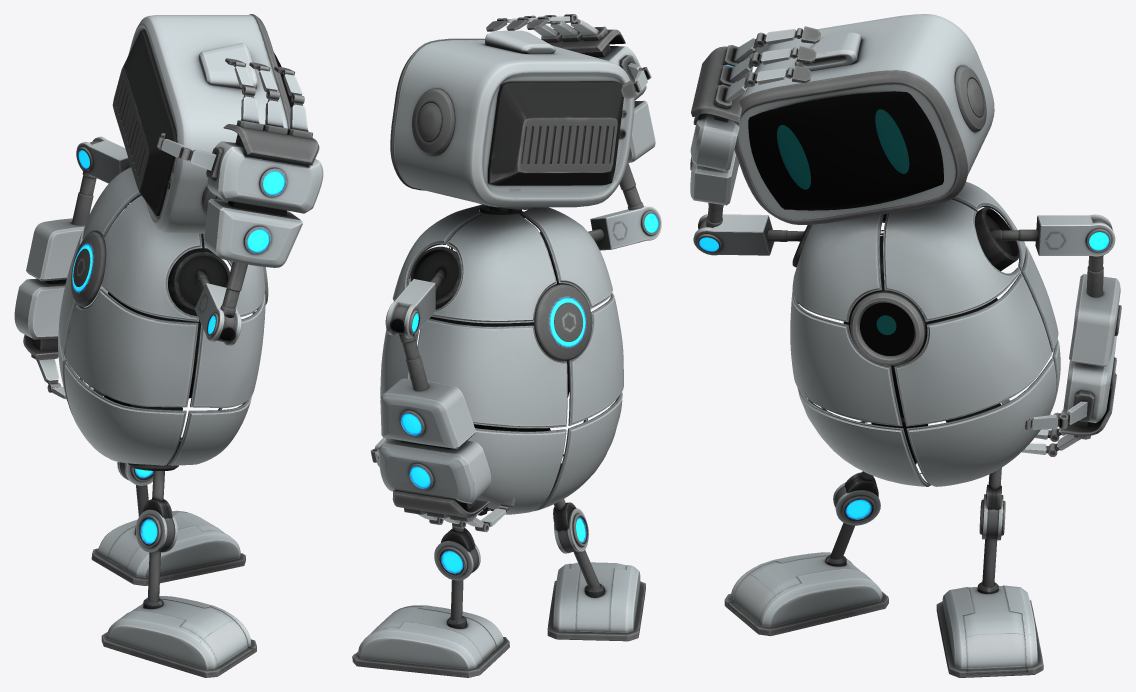
File: stylized_robot_0_9_max.glb
The picture shows the model from 3 angles, left to right: view 1: azimuth 30°, elevation 25°; view 2: azimuth 150°, elevation 25°; view 3: azimuth 270°, elevation 25°; orthographic projection. The views are drawn at different scales.
Parts seen in each view (by area): view 1: bodyMid, headchassis, bodyTop, bodyBottom, foot_R, headBack, foot_L, palm2_R, palm1_R, palm1_L, palm2_L, shoulder_R (+14 smaller); view 2: headchassis, bodyMid, bodyTop, headBack, bodyBottom, foot_L, foot_R, palm2_L, palm1_L, backDisk, ear_L, elbow_L (+16 smaller); view 3: bodyMid, headchassis, bodyTop, screenFace, screenBack, bodyBottom, foot_R, foot_L, chestScreen, palm1_L, elbow_L, elbow_R (+15 smaller).
Part boxes in pixels (x1=…): bodyMid: x1=59, y1=206, x2=265, y2=407; headchassis: x1=128, y1=14, x2=290, y2=233; bodyTop: x1=83, y1=167, x2=265, y2=321; bodyBottom: x1=58, y1=282, x2=252, y2=465; foot_R: x1=101, y1=596, x2=256, y2=677; headBack: x1=112, y1=30, x2=177, y2=215; foot_L: x1=91, y1=510, x2=245, y2=585; palm2_R: x1=207, y1=141, x2=323, y2=213; palm1_R: x1=204, y1=198, x2=302, y2=267; palm1_L: x1=26, y1=218, x2=111, y2=281; palm2_L: x1=14, y1=278, x2=107, y2=339; shoulder_R: x1=168, y1=249, x2=229, y2=309; headchassis: x1=390, y1=38, x2=634, y2=207; bodyMid: x1=380, y1=293, x2=623, y2=428; bodyTop: x1=392, y1=204, x2=612, y2=323; headBack: x1=488, y1=81, x2=623, y2=185; bodyBottom: x1=387, y1=392, x2=622, y2=514; foot_L: x1=352, y1=605, x2=509, y2=677; foot_R: x1=547, y1=562, x2=645, y2=641; palm2_L: x1=378, y1=438, x2=491, y2=503; palm1_L: x1=380, y1=378, x2=475, y2=448; backDisk: x1=534, y1=284, x2=592, y2=360; ear_L: x1=412, y1=88, x2=455, y2=155; elbow_L: x1=386, y1=279, x2=435, y2=338; bodyMid: x1=790, y1=232, x2=1058, y2=426; headchassis: x1=734, y1=14, x2=994, y2=224; bodyTop: x1=792, y1=181, x2=1025, y2=322; screenFace: x1=749, y1=91, x2=943, y2=210; screenBack: x1=748, y1=91, x2=943, y2=209; bodyBottom: x1=797, y1=338, x2=1060, y2=486; foot_R: x1=724, y1=552, x2=888, y2=636; foot_L: x1=936, y1=585, x2=1043, y2=677; chestScreen: x1=850, y1=289, x2=927, y2=365; palm1_L: x1=1069, y1=274, x2=1120, y2=366; elbow_L: x1=1035, y1=214, x2=1115, y2=256; elbow_R: x1=693, y1=214, x2=774, y2=255.
Bounding box in the file's own units: 0.0893 × 0.2495 × 0.1603.
4 materials, 2 textured.
